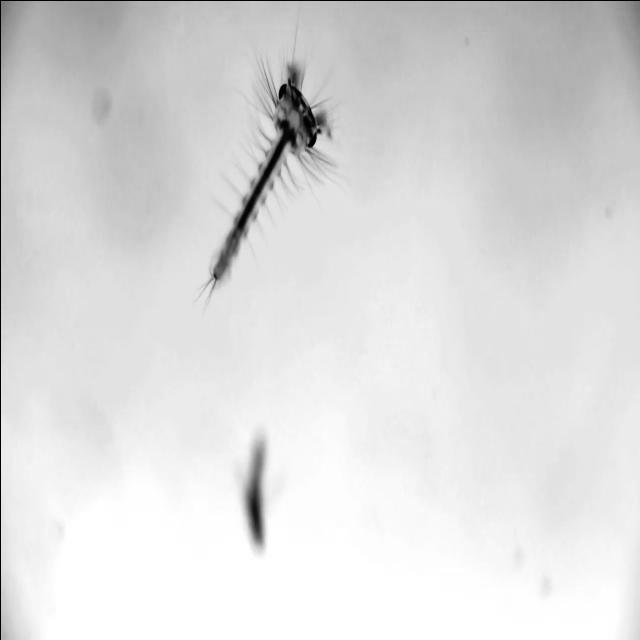larvas: (204, 88, 334, 292)
